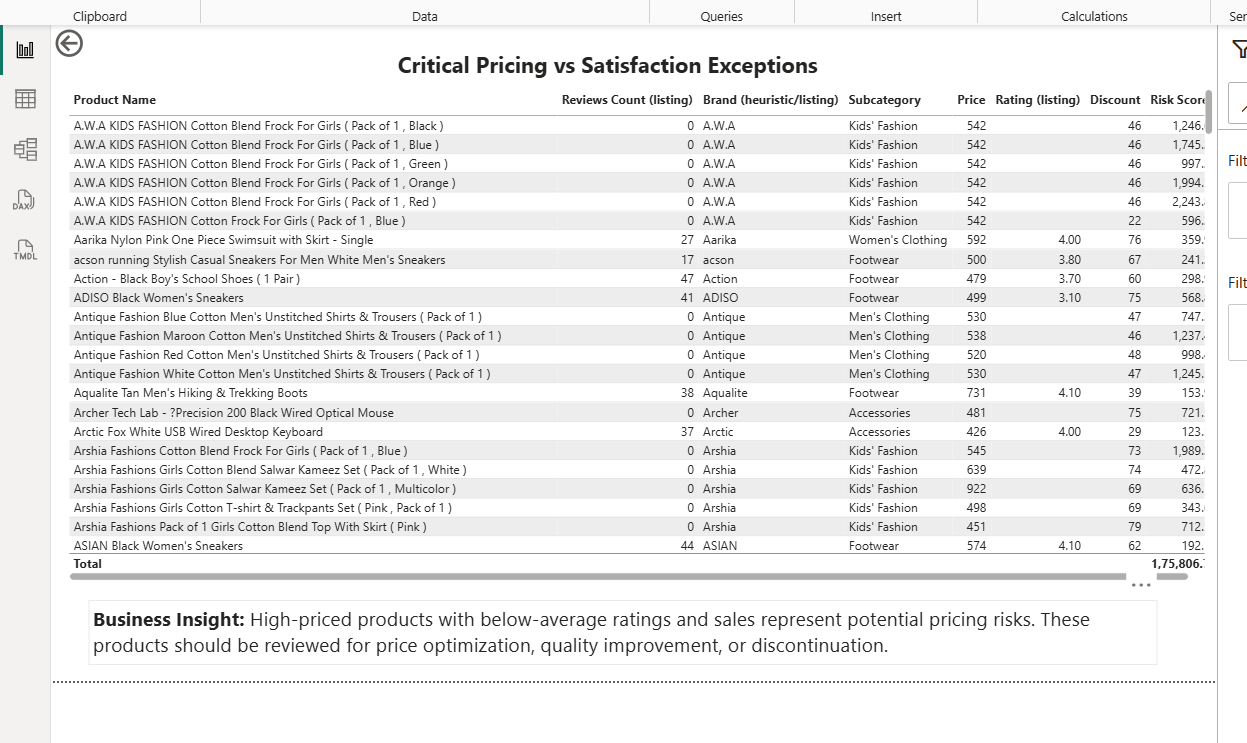

This screenshot's page, from the dashboard's own definition file:
{"tool":"powerbi","page":{"name":"Pricing vs Satisfaction Analysis","canvas":[1280,720],"ordinal":0},"visuals":[{"type":"tableEx","fields":{"Values":["Snapdeal_Final_Dataset.Product Name","Snapdeal_Final_Dataset.Reviews Count (listing)","Snapdeal_Final_Dataset.Brand (heuristic/listing)","Snapdeal_Final_Dataset.Subcategory","Snapdeal_Final_Dataset.Price","Snapdeal_Final_Dataset.Rating (listing)","Snapdeal_Final_Dataset.Discount","Snapdeal_Final_Dataset.Risk Score"]},"box":[13.7,65.9,1266.6,548.9],"z":0},{"type":"textbox","box":[100.2,22,1015.4,53.5],"z":1000},{"type":"textbox","box":[41.2,631.2,1173.2,71.4],"z":2000},{"type":"actionButton","box":[0,0,100,40],"z":3000}]}

Visuals, with their boxes on the page's 1280x720 design canvas (x1, y1, x2, y2). These are canvas units, not pixel positions in the 1247x743 screenshot, which may show the page scaled, cropped or inside an application window:
tableEx - Snapdeal_Final_Dataset.Product Name x Snapdeal_Final_Dataset.Reviews Count (listing): [14, 66, 1280, 615]
textbox: [100, 22, 1116, 76]
textbox: [41, 631, 1214, 703]
actionButton: [0, 0, 100, 40]
